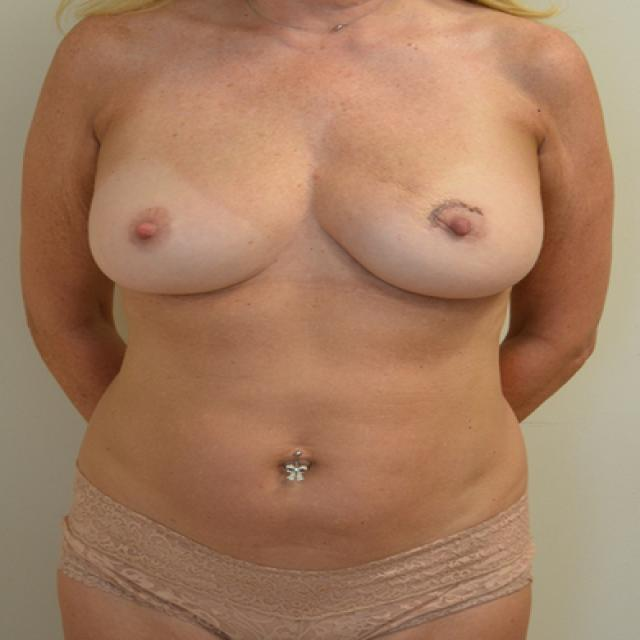Seno herido: (315, 135, 551, 314)
Seno ileso: (82, 136, 305, 308)
